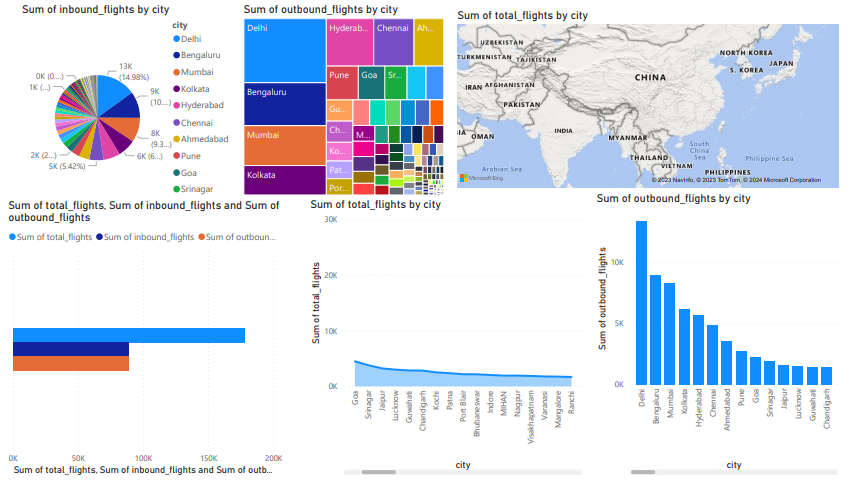

The dashboard page shown, as its layout file describes it:
{"tool":"powerbi","page":{"name":"City Stats","canvas":[1280,720],"ordinal":0},"visuals":[{"type":"pieChart","fields":{"Category":["City Air Traffic.city"],"Y":["Sum(City Air Traffic.inbound_flights)"]},"box":[10.2,0,335.9,328.6],"z":0},{"type":"clusteredColumnChart","fields":{"Y":["Sum(City Air Traffic.outbound_flights)"],"Category":["City Air Traffic.city"]},"box":[902.4,285.1,377.6,435.5],"z":1},{"type":"clusteredBarChart","fields":{"Y":["Sum(City Air Traffic.total_flights)","Sum(City Air Traffic.inbound_flights)","Sum(City Air Traffic.outbound_flights)"]},"box":[11,296.1,426.1,424.6],"z":2},{"type":"areaChart","fields":{"Category":["City Air Traffic.city"],"Y":["Sum(City Air Traffic.total_flights)"]},"box":[481,285.1,421.4,424.6],"z":3},{"type":"treemap","fields":{"Group":["City Air Traffic.city"],"Values":["Sum(City Air Traffic.outbound_flights)"]},"box":[368,0,312.5,296.5],"z":4},{"type":"filledMap","fields":{"Category":["City Air Traffic.city"]},"box":[692.5,9.4,587.5,275.7],"z":5}]}

Visuals, with their boxes in screenshot pixels (x1, y1, x2, y2), scaled from the page's 1280x720 canvas onto the 851x486 screenshot:
pieChart - City Air Traffic.city x Sum(City Air Traffic.inbound_flights): <bbox>7, 0, 230, 222</bbox>
clusteredColumnChart - Sum(City Air Traffic.outbound_flights) x City Air Traffic.city: <bbox>600, 192, 850, 485</bbox>
clusteredBarChart - Sum(City Air Traffic.total_flights) x Sum(City Air Traffic.inbound_flights): <bbox>7, 200, 291, 485</bbox>
areaChart - City Air Traffic.city x Sum(City Air Traffic.total_flights): <bbox>320, 192, 600, 479</bbox>
treemap - City Air Traffic.city x Sum(City Air Traffic.outbound_flights): <bbox>245, 0, 452, 200</bbox>
filledMap - City Air Traffic.city: <bbox>460, 6, 850, 192</bbox>
